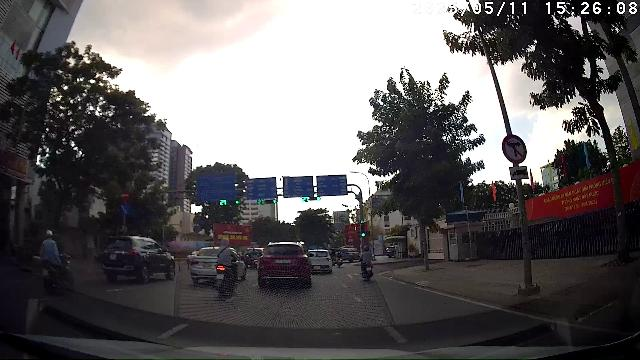137-cam-re-trai-va-re-phai: (502, 134, 528, 164)
